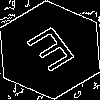E: (25, 25, 84, 82)
